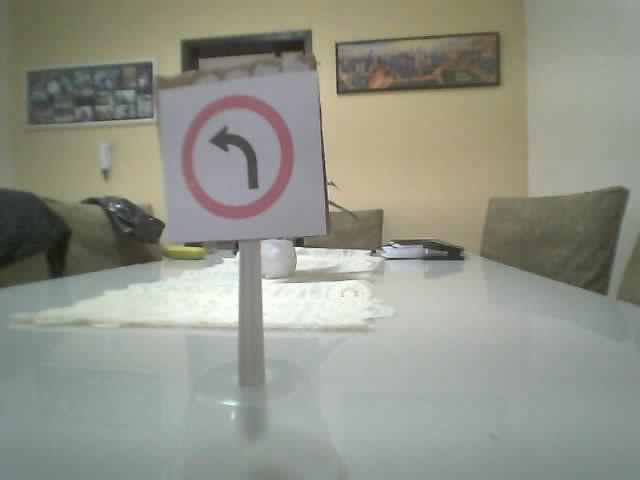R-25a_esquerda: (179, 94, 295, 220)
